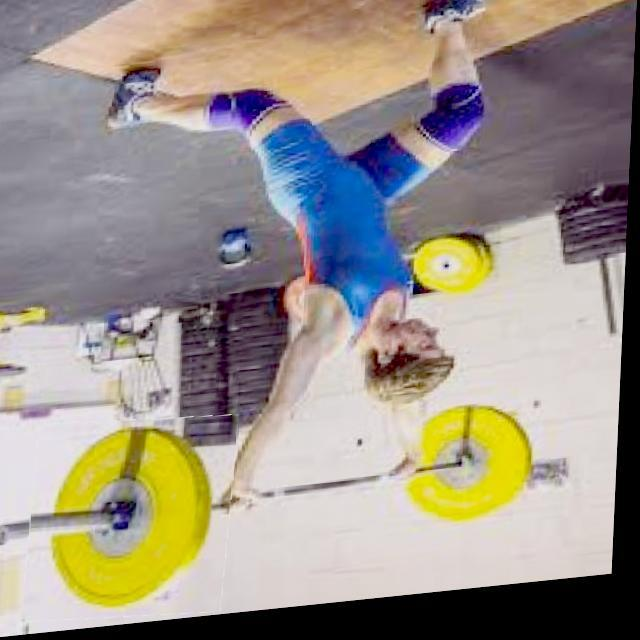barbell: (30, 413, 241, 632)
